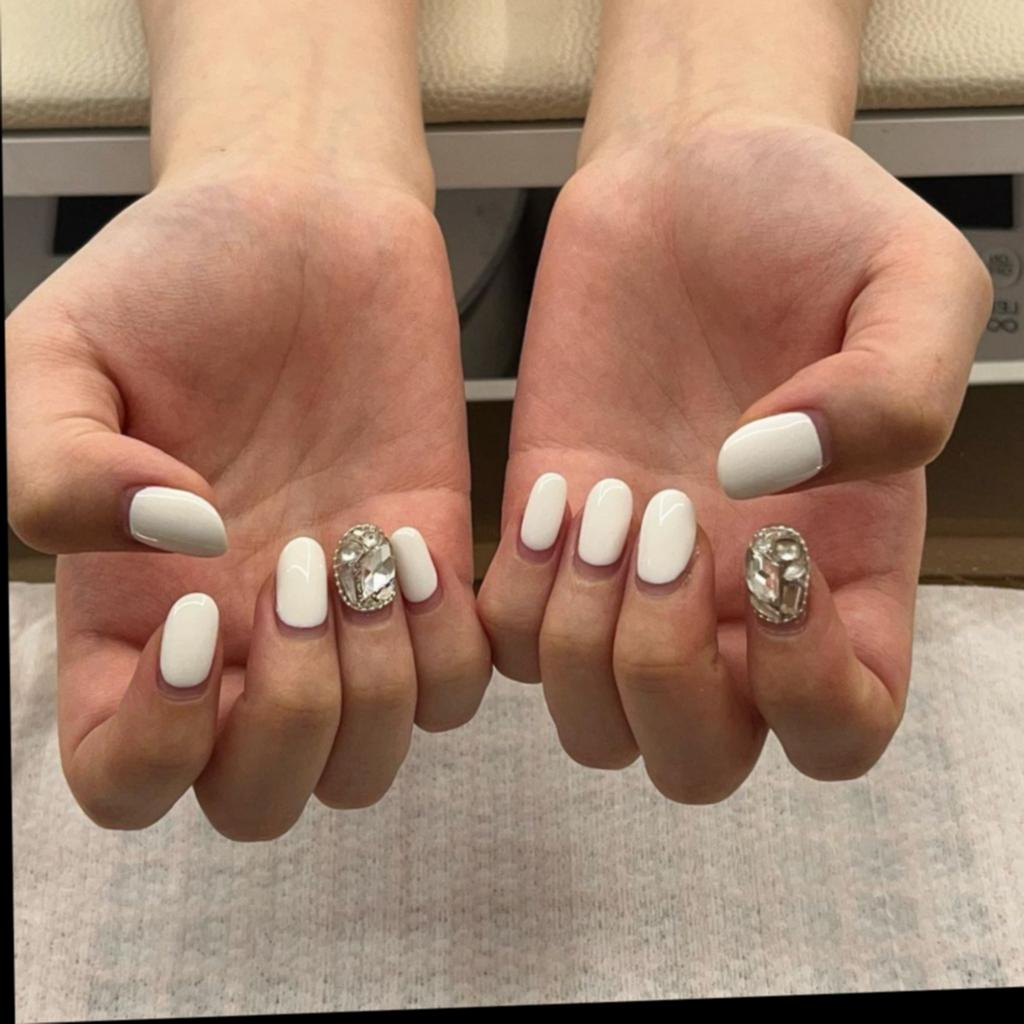nail: (716, 408, 828, 500), (126, 481, 229, 561), (744, 521, 814, 631), (157, 590, 222, 693), (635, 485, 700, 587), (334, 521, 397, 614), (576, 475, 635, 567), (274, 534, 330, 630), (518, 469, 569, 554), (391, 524, 440, 604)
